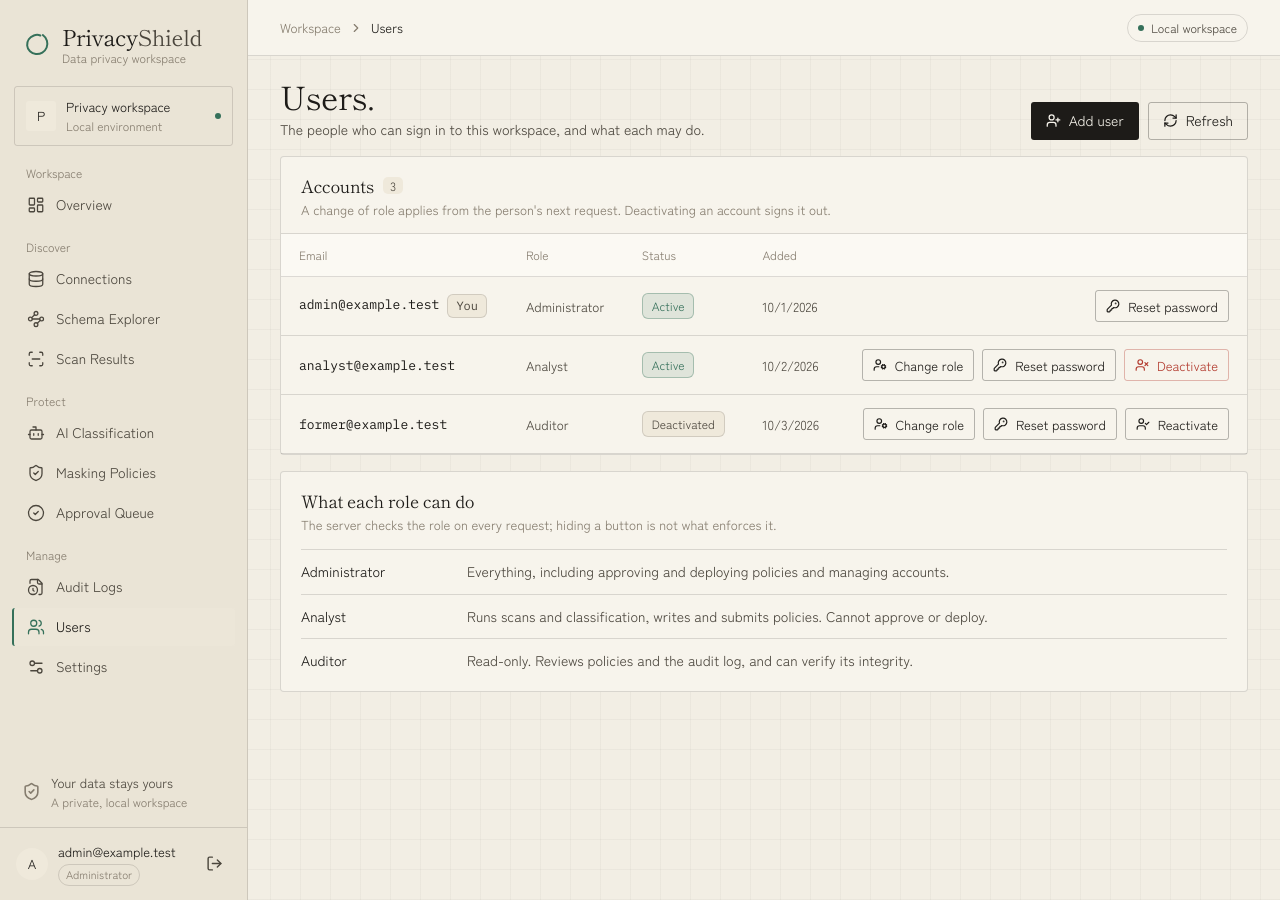
account management › clears an earlier refusal when a new action starts
The width and height of the screenshot is (1280, 900).
Check: the table is shown, box [281,233,1247,454]
Click the button with aria-label "Deactivate analyst@example.test" at (1176, 365), box [1124,349,1229,381]
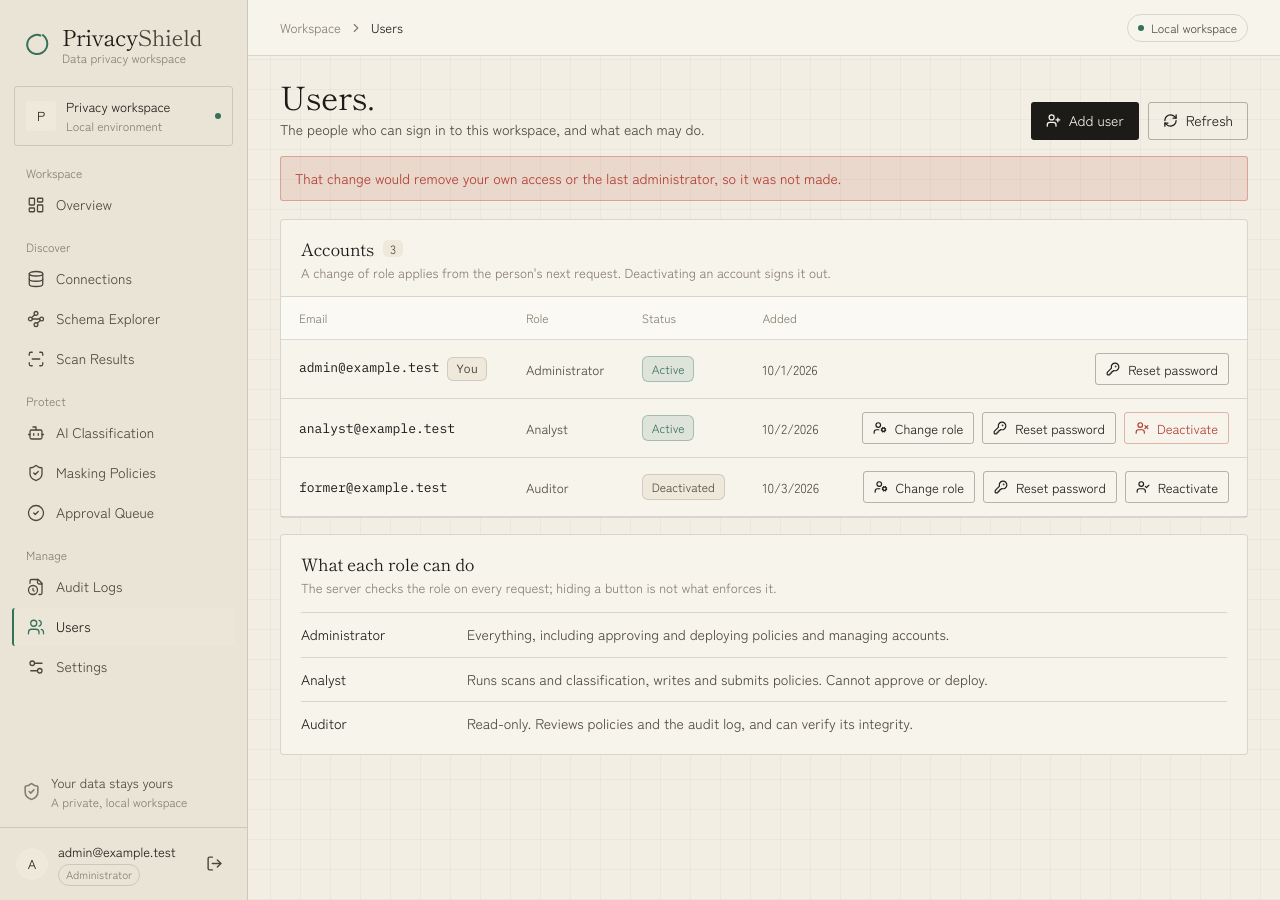
Check: the button with aria-label "Deactivate analyst@example.test" is enabled, box [1124,412,1229,444]
Check: the message shows "was not made", box [295,168,841,188]
Click the button with aria-label "Reset password for analyst@example.test" at (1049, 428), box [982,412,1116,444]
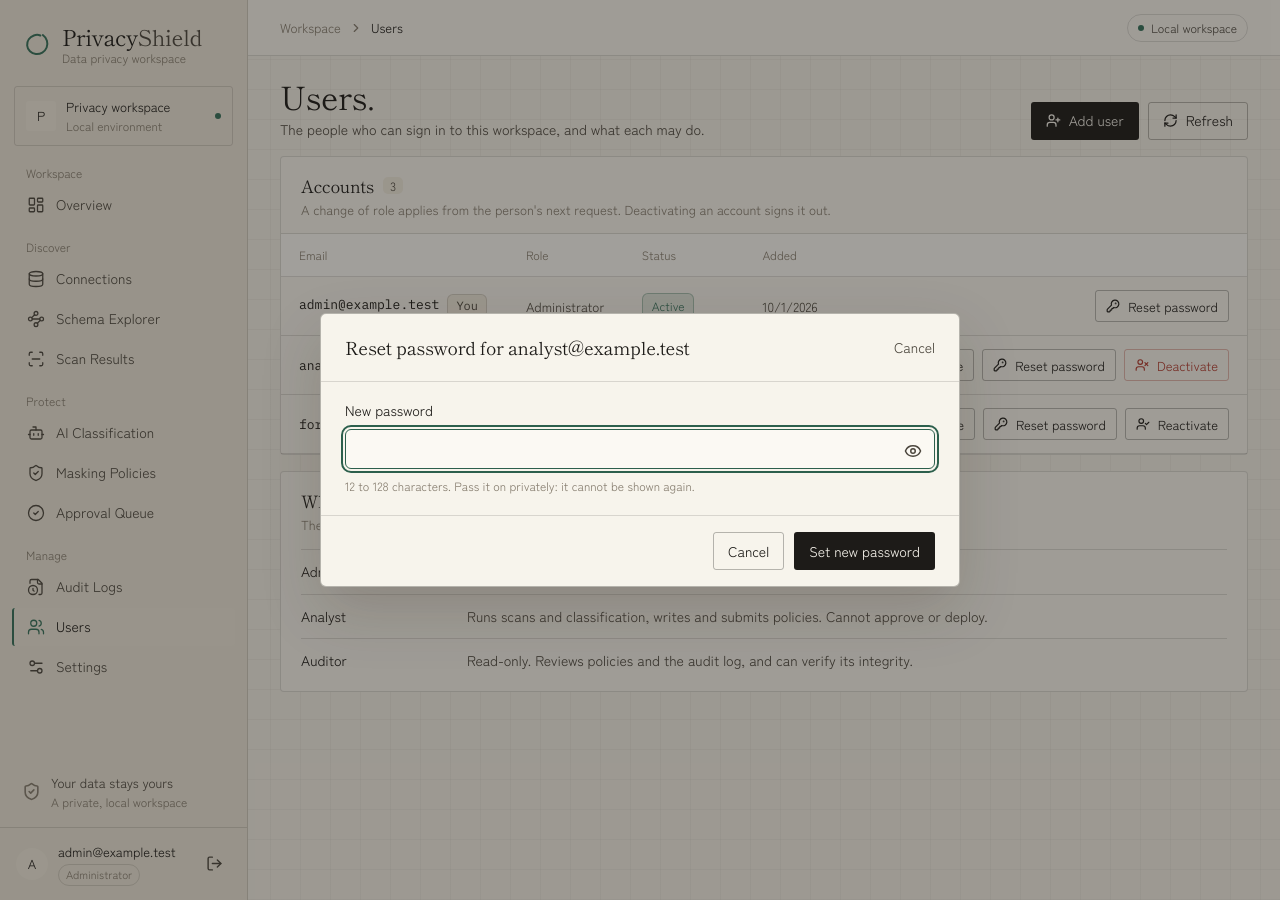
Check: the text "was not made" is gone
